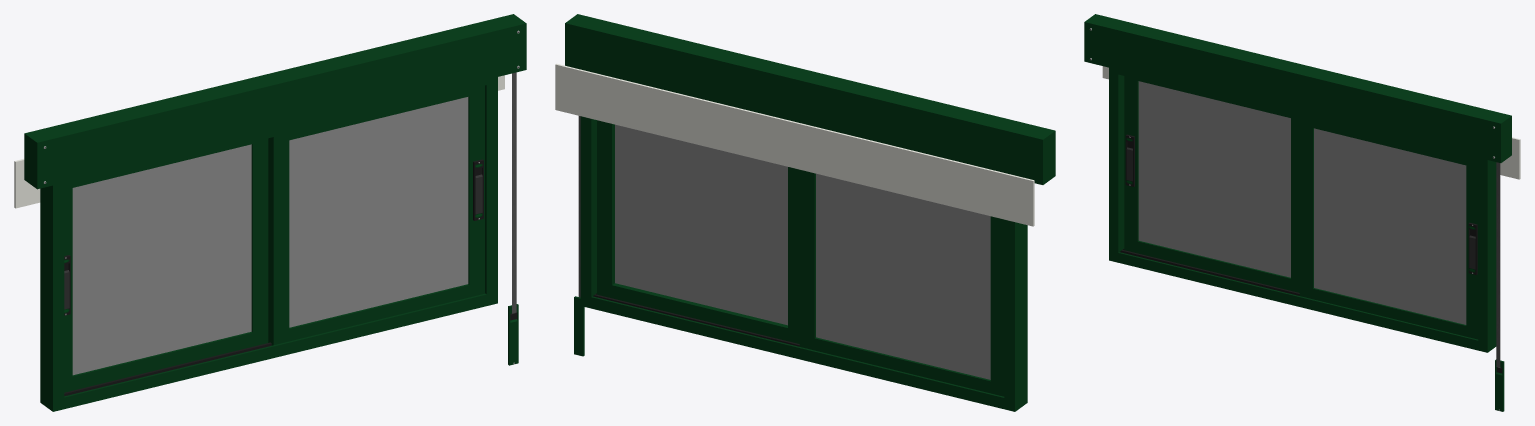
Rendered from 3D004_Office_Window.FBX.
3 renders of one model, left to right at view 1: azimuth 30°, elevation 25°; view 2: azimuth 150°, elevation 25°; view 3: azimuth 330°, elevation 25°, orthographic. The views are drawn at different scales.
Parts seen in each view (by area): view 1: 3D004_Office_WindowFrame, 3D004_Office_Window02Cristal, 3D004_Office_Window01Cristal, 3D004_Office_Window01, 3D004_Office_Window2; view 2: 3D004_Office_WindowFrame, 3D004_Office_Window02Cristal, 3D004_Office_Window01Cristal, 3D004_Office_Window2, 3D004_Office_Window01; view 3: 3D004_Office_WindowFrame, 3D004_Office_Window01Cristal, 3D004_Office_Window02Cristal, 3D004_Office_Window01, 3D004_Office_Window2.
Boxes of the visible parts, x1=… form: 3D004_Office_WindowFrame: x1=14, y1=14, x2=526, y2=411; 3D004_Office_Window02Cristal: x1=72, y1=144, x2=251, y2=375; 3D004_Office_Window01Cristal: x1=289, y1=97, x2=468, y2=327; 3D004_Office_Window01: x1=268, y1=85, x2=484, y2=345; 3D004_Office_Window2: x1=64, y1=138, x2=268, y2=392; 3D004_Office_WindowFrame: x1=555, y1=14, x2=1055, y2=411; 3D004_Office_Window02Cristal: x1=816, y1=173, x2=990, y2=379; 3D004_Office_Window01Cristal: x1=615, y1=124, x2=787, y2=325; 3D004_Office_Window2: x1=799, y1=170, x2=1004, y2=396; 3D004_Office_Window01: x1=597, y1=120, x2=799, y2=343; 3D004_Office_WindowFrame: x1=1084, y1=14, x2=1520, y2=411; 3D004_Office_Window01Cristal: x1=1314, y1=128, x2=1466, y2=324; 3D004_Office_Window02Cristal: x1=1138, y1=81, x2=1290, y2=277; 3D004_Office_Window01: x1=1299, y1=119, x2=1478, y2=339; 3D004_Office_Window2: x1=1124, y1=76, x2=1299, y2=292.
Bounding box in the file's own units: 220 × 147 × 18.08.
